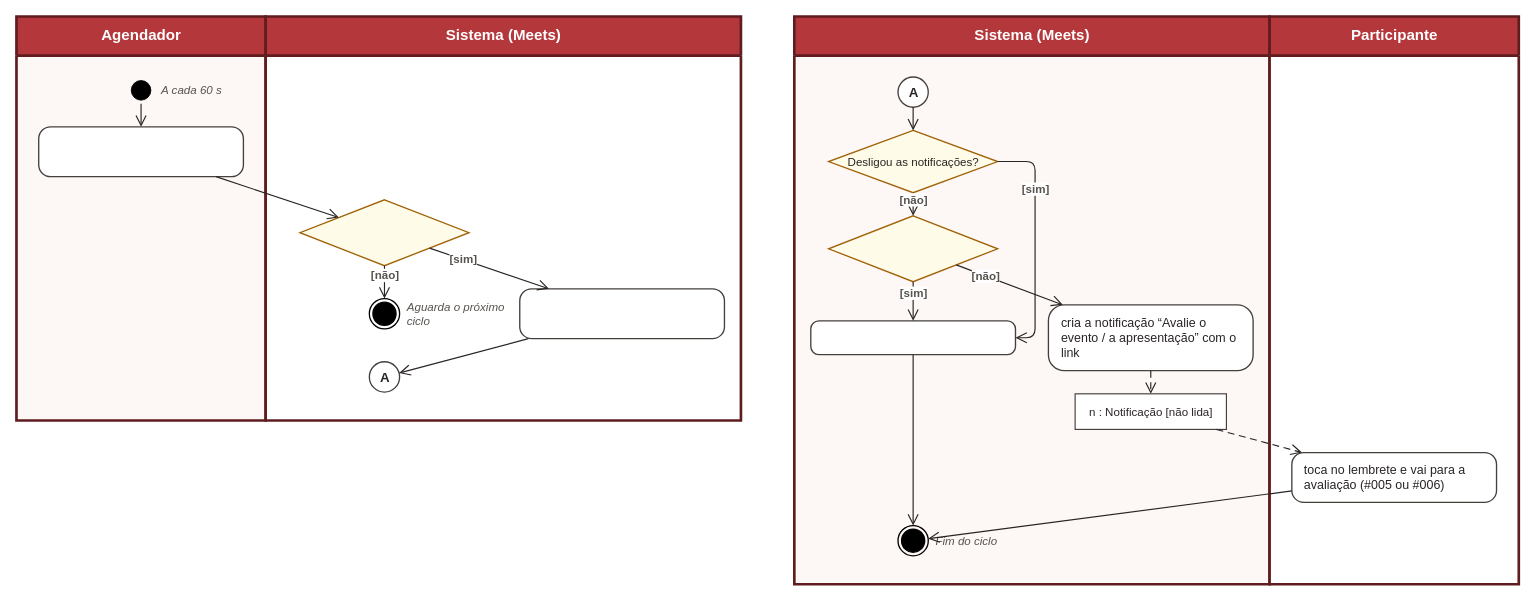
Image size: 1535x601. Some labels were removed from this diagram. Here are the shapes that lost their labels. From the top down, the centre of each, then its label:
At (141,151): "busca eventos e apresentações com data e horário de fim".
At (384,232): "Terminou no horário de Brasília?".
At (913,248): "Já recebeu este lembrete?".
At (622,313): "lista os participantes de cada item terminado".
At (913,337): "ignora este participante".
